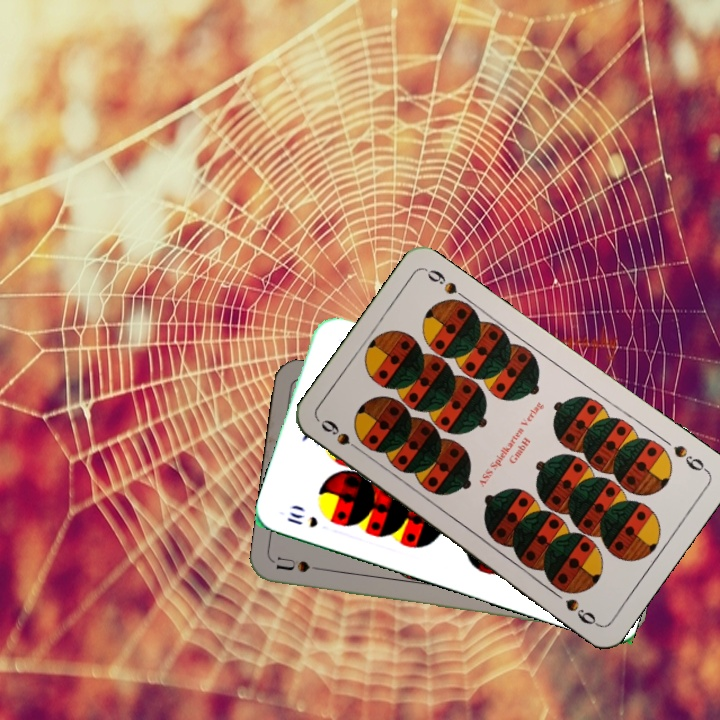S10: (282, 507, 321, 530)
S9: (316, 415, 367, 457), (669, 440, 711, 475)
SU: (273, 552, 333, 575)
